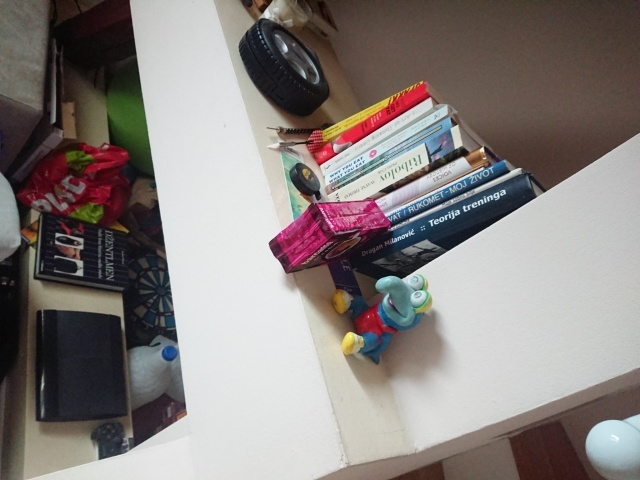Barcaffe Classic Original 225g: (266, 196, 393, 276)
